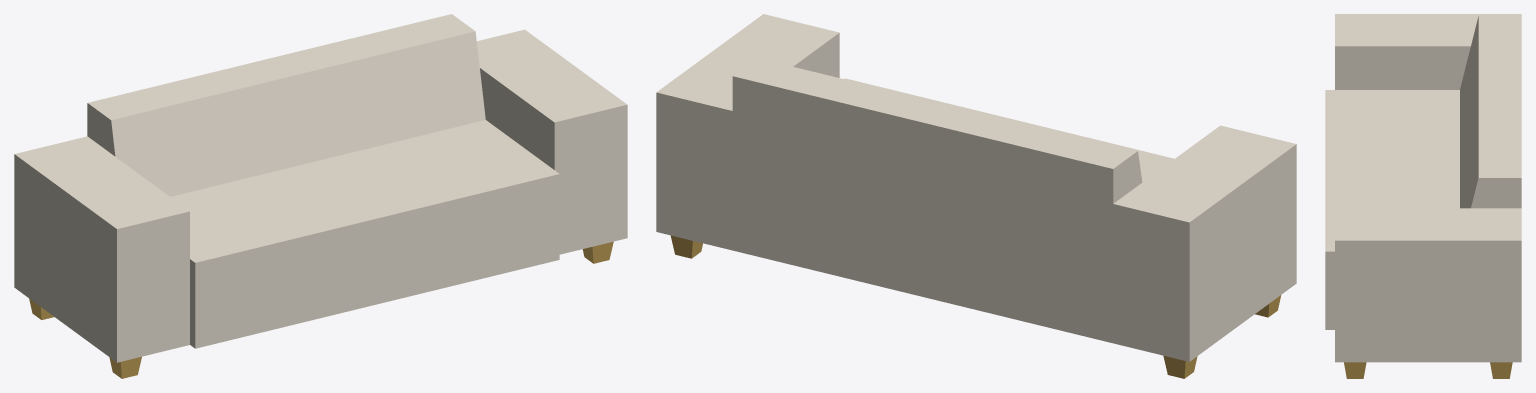
File: sofa.glb
3 views of the same model, side by side, from view 1: azimuth 30°, elevation 25°; view 2: azimuth 150°, elevation 25°; view 3: azimuth 270°, elevation 25° (orthographic). The views are drawn at different scales.
Parts seen in each view (by area): view 1: sofa; view 2: sofa; view 3: sofa.
Boxes of the visible parts, x1,y1,x2,y2 form: sofa: (14,14,627,378); sofa: (656,14,1296,378); sofa: (1325,14,1521,378).
Bounding box in the file's own units: 2.24 × 0.7999 × 0.8199.
